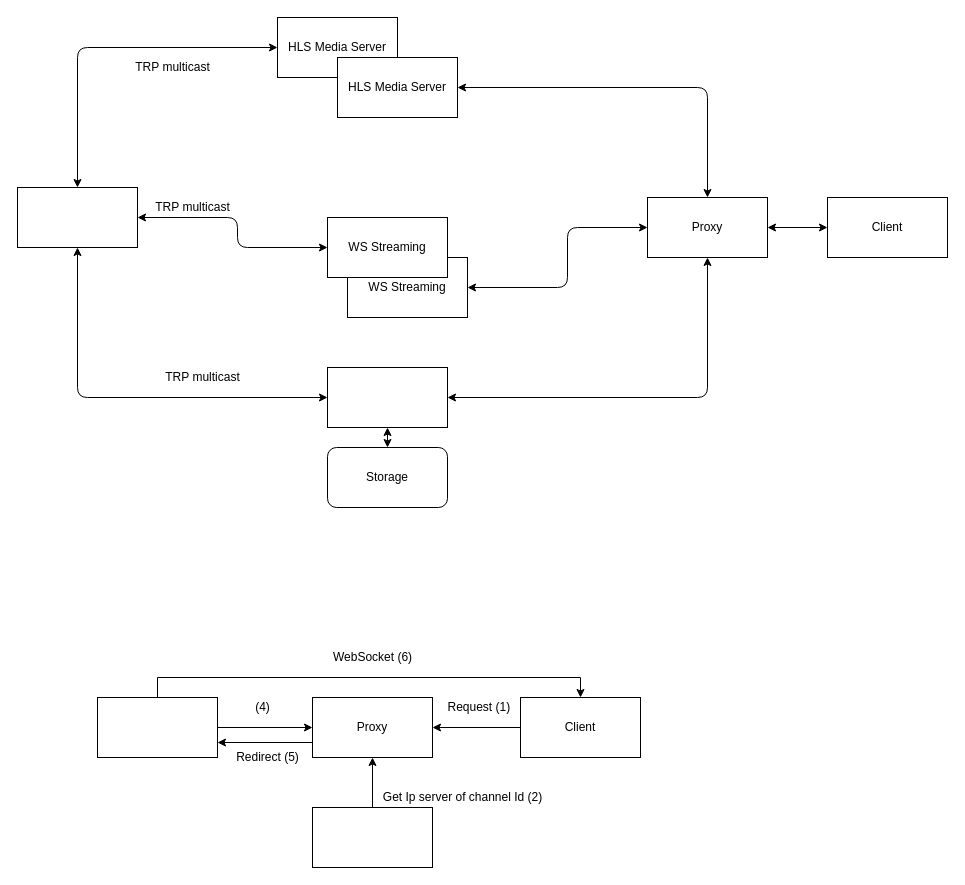
The diagram is 965 pixels wide and 885 high, and some of its shapes have lost their labels. Each missing label, with the centre of its shape:
Media Gateway: the point at 77,217
Media Server: the point at 157,727
Recording: the point at 387,397
Redis: the point at 372,837
